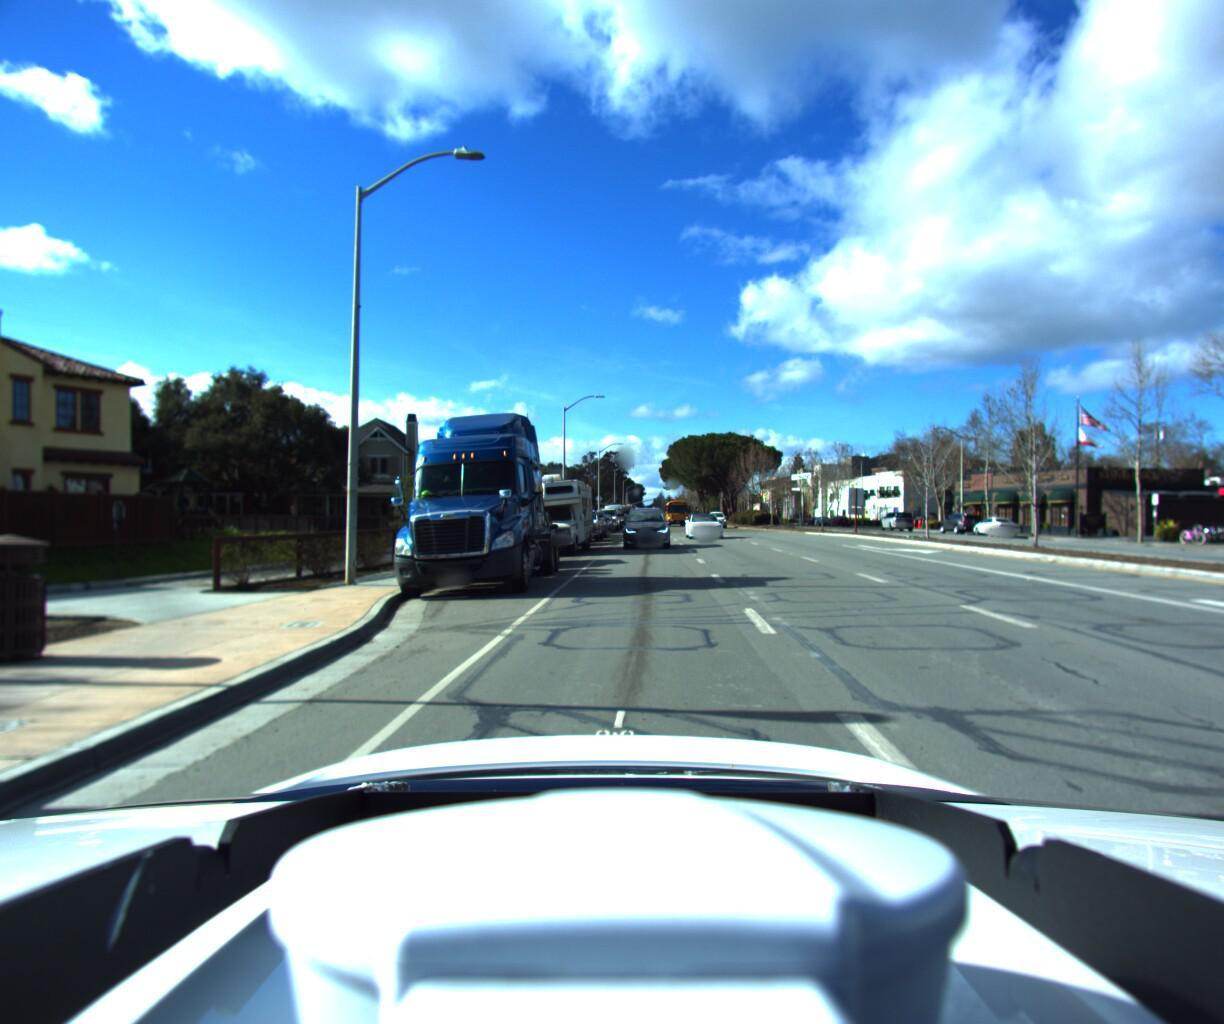car: (486, 507, 557, 568), (623, 508, 672, 548), (563, 502, 609, 542), (971, 514, 1025, 537), (683, 513, 725, 539), (938, 510, 981, 534), (876, 511, 910, 530), (711, 508, 735, 526)
other_vehicle: (501, 466, 595, 557)
truck: (369, 380, 557, 598)
